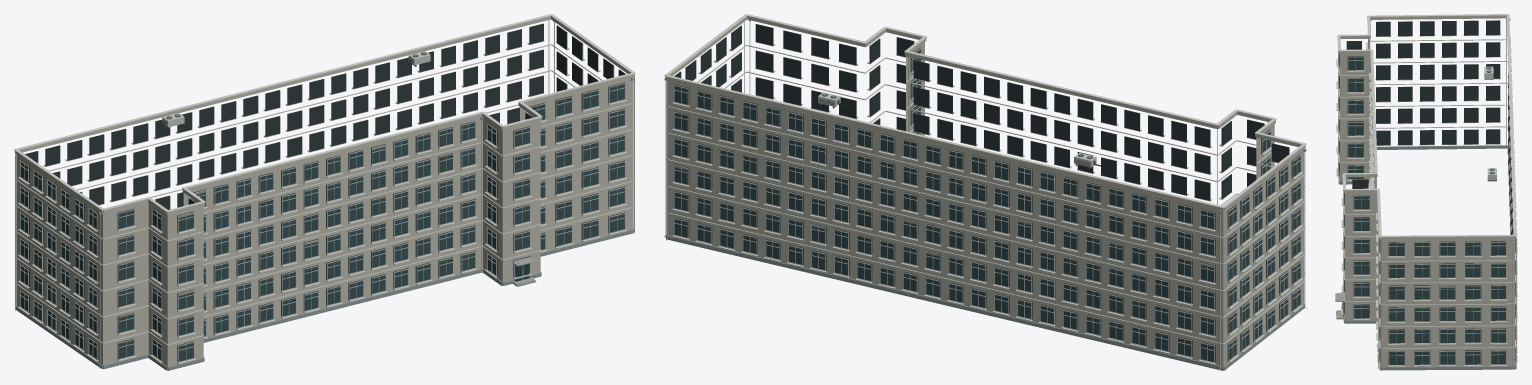
File: osm_way_223859811.glb
3 views of the same model, side by side, from view 1: azimuth 30°, elevation 25°; view 2: azimuth 150°, elevation 25°; view 3: azimuth 270°, elevation 25° (orthographic). The views are drawn at different scales.
Parts seen in each view (by area): view 1: Windows and facade details | 行政楼办公楼, Architecture | 行政楼办公楼, Roof services | 行政楼办公楼, EXTERIOR::osm_way_223859811::rainwater and roof service deta; view 2: Windows and facade details | 行政楼办公楼, Architecture | 行政楼办公楼, Roof services | 行政楼办公楼, EXTERIOR::osm_way_223859811::rainwater and roof service deta; view 3: Windows and facade details | 行政楼办公楼, Architecture | 行政楼办公楼, Roof services | 行政楼办公楼, EXTERIOR::osm_way_223859811::rainwater and roof service deta, EXTERIOR::osm_way_223859811::inferred entry doors canopy and.
Boxes of the visible parts, bbox=[...] form: Windows and facade details | 行政楼办公楼: bbox=[15, 20, 634, 364]; Architecture | 行政楼办公楼: bbox=[15, 16, 634, 370]; Roof services | 行政楼办公楼: bbox=[14, 14, 635, 212]; EXTERIOR::osm_way_223859811::rainwater and roof service deta: bbox=[98, 21, 633, 368]; Windows and facade details | 行政楼办公楼: bbox=[666, 22, 1303, 370]; Architecture | 行政楼办公楼: bbox=[665, 16, 1305, 370]; Roof services | 行政楼办公楼: bbox=[664, 14, 1306, 208]; EXTERIOR::osm_way_223859811::rainwater and roof service deta: bbox=[664, 20, 1306, 370]; Windows and facade details | 行政楼办公楼: bbox=[1336, 18, 1517, 370]; Architecture | 行政楼办公楼: bbox=[1338, 16, 1515, 370]; Roof services | 行政楼办公楼: bbox=[1337, 14, 1516, 237]; EXTERIOR::osm_way_223859811::rainwater and roof service deta: bbox=[1370, 18, 1513, 369]; EXTERIOR::osm_way_223859811::inferred entry doors canopy and: bbox=[1335, 292, 1343, 319].
Size of the model in its own units: 81.56 by 23.58 by 28.12.
